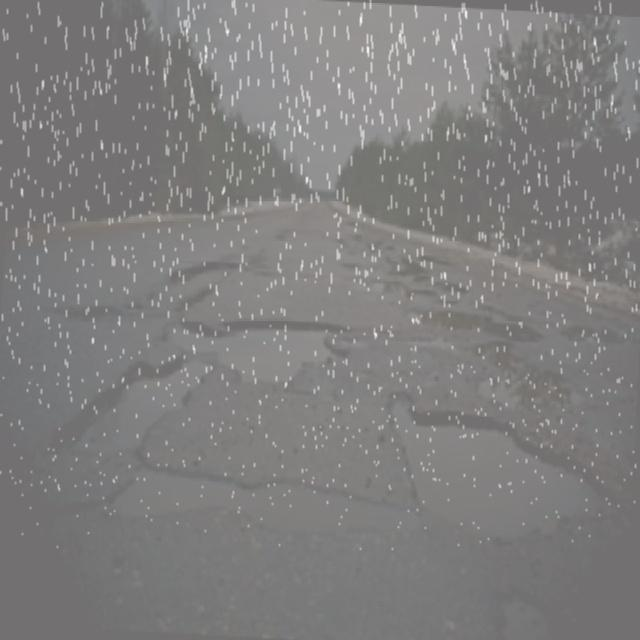Pothole: (76, 354, 420, 573), (360, 366, 634, 551), (154, 288, 365, 384), (415, 289, 542, 400), (334, 228, 454, 293), (479, 568, 570, 636), (551, 311, 640, 362), (173, 253, 272, 283)
